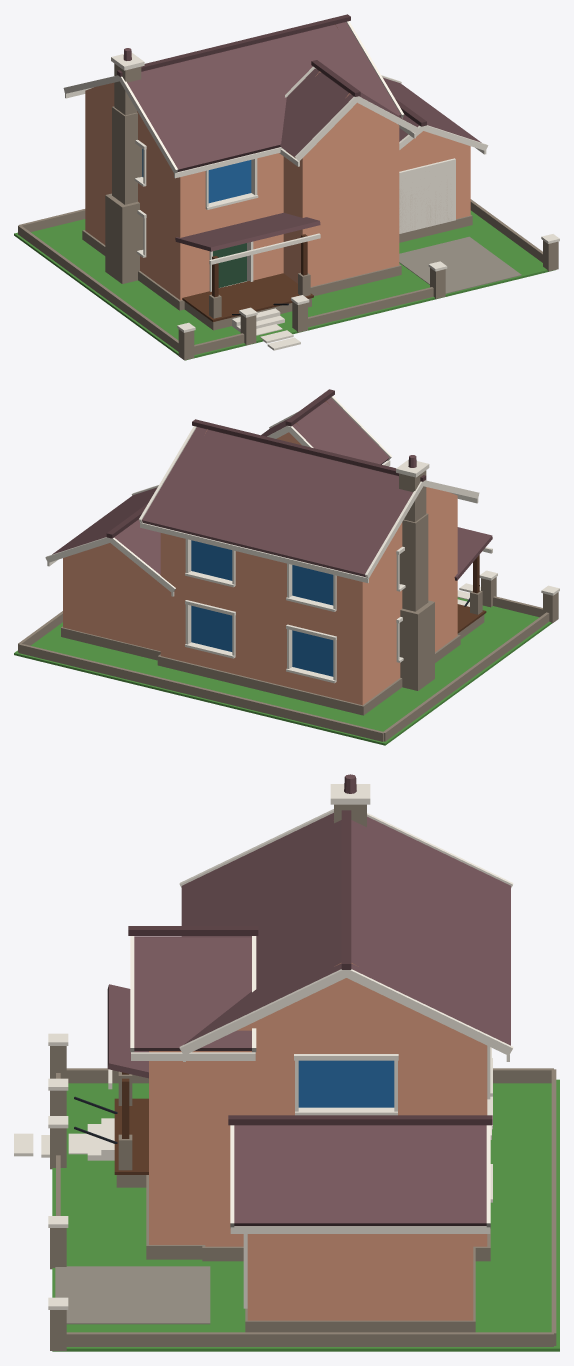
The model's file is 03_chalet-lod1.glb.
3 views of the same model, one above another, from view 1: azimuth 30°, elevation 25°; view 2: azimuth 150°, elevation 25°; view 3: azimuth 270°, elevation 25° (orthographic). The views are drawn at different scales.
Visible parts, largest first — view 1: ChaletJardin_LOD1; view 2: ChaletJardin_LOD1; view 3: ChaletJardin_LOD1.
Part boxes in pixels (box(x1,y1,x2,y2)): ChaletJardin_LOD1: box(14, 14, 559, 360); ChaletJardin_LOD1: box(14, 389, 559, 745); ChaletJardin_LOD1: box(14, 774, 559, 1351).
Size of the model in its own units: 16 by 9.95 by 13.55.
2 materials, 2 textured.
